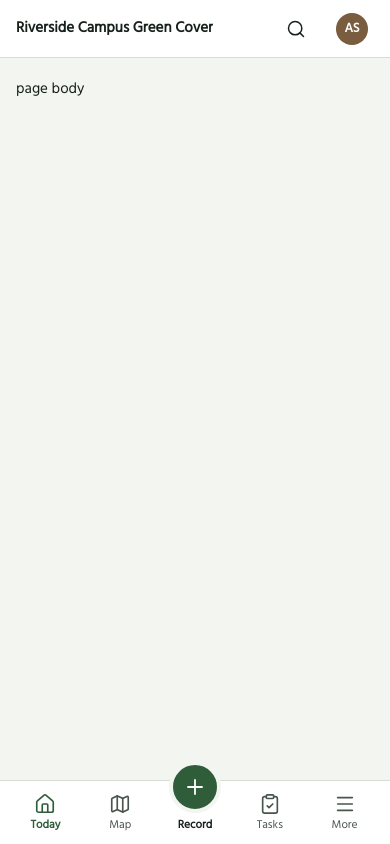
Scenario: workspace frame › More on the phone bar opens the menu and Esc closes it
Click the button "More" at x=345, y=810, box x1=313 y1=787 x2=377 y2=834
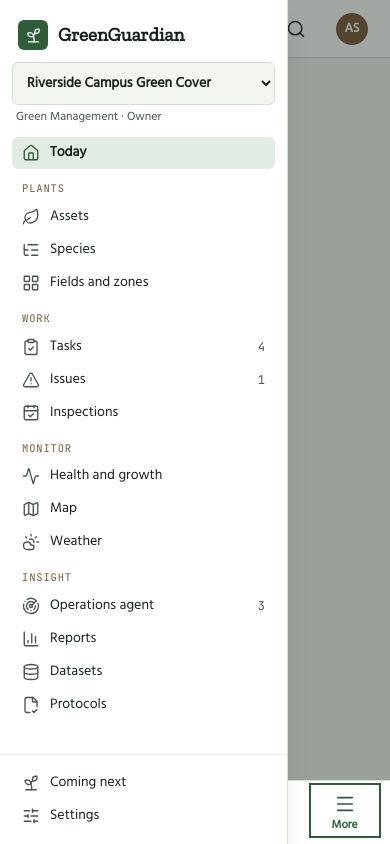
Expected: the button "More" is expanded, x1=313 y1=787 x2=377 y2=834
Press Escape
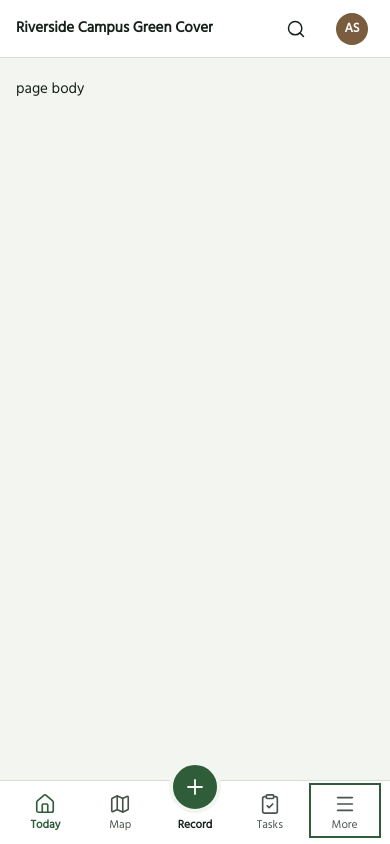
Expected: the button "More" is collapsed, x1=313 y1=787 x2=377 y2=834
